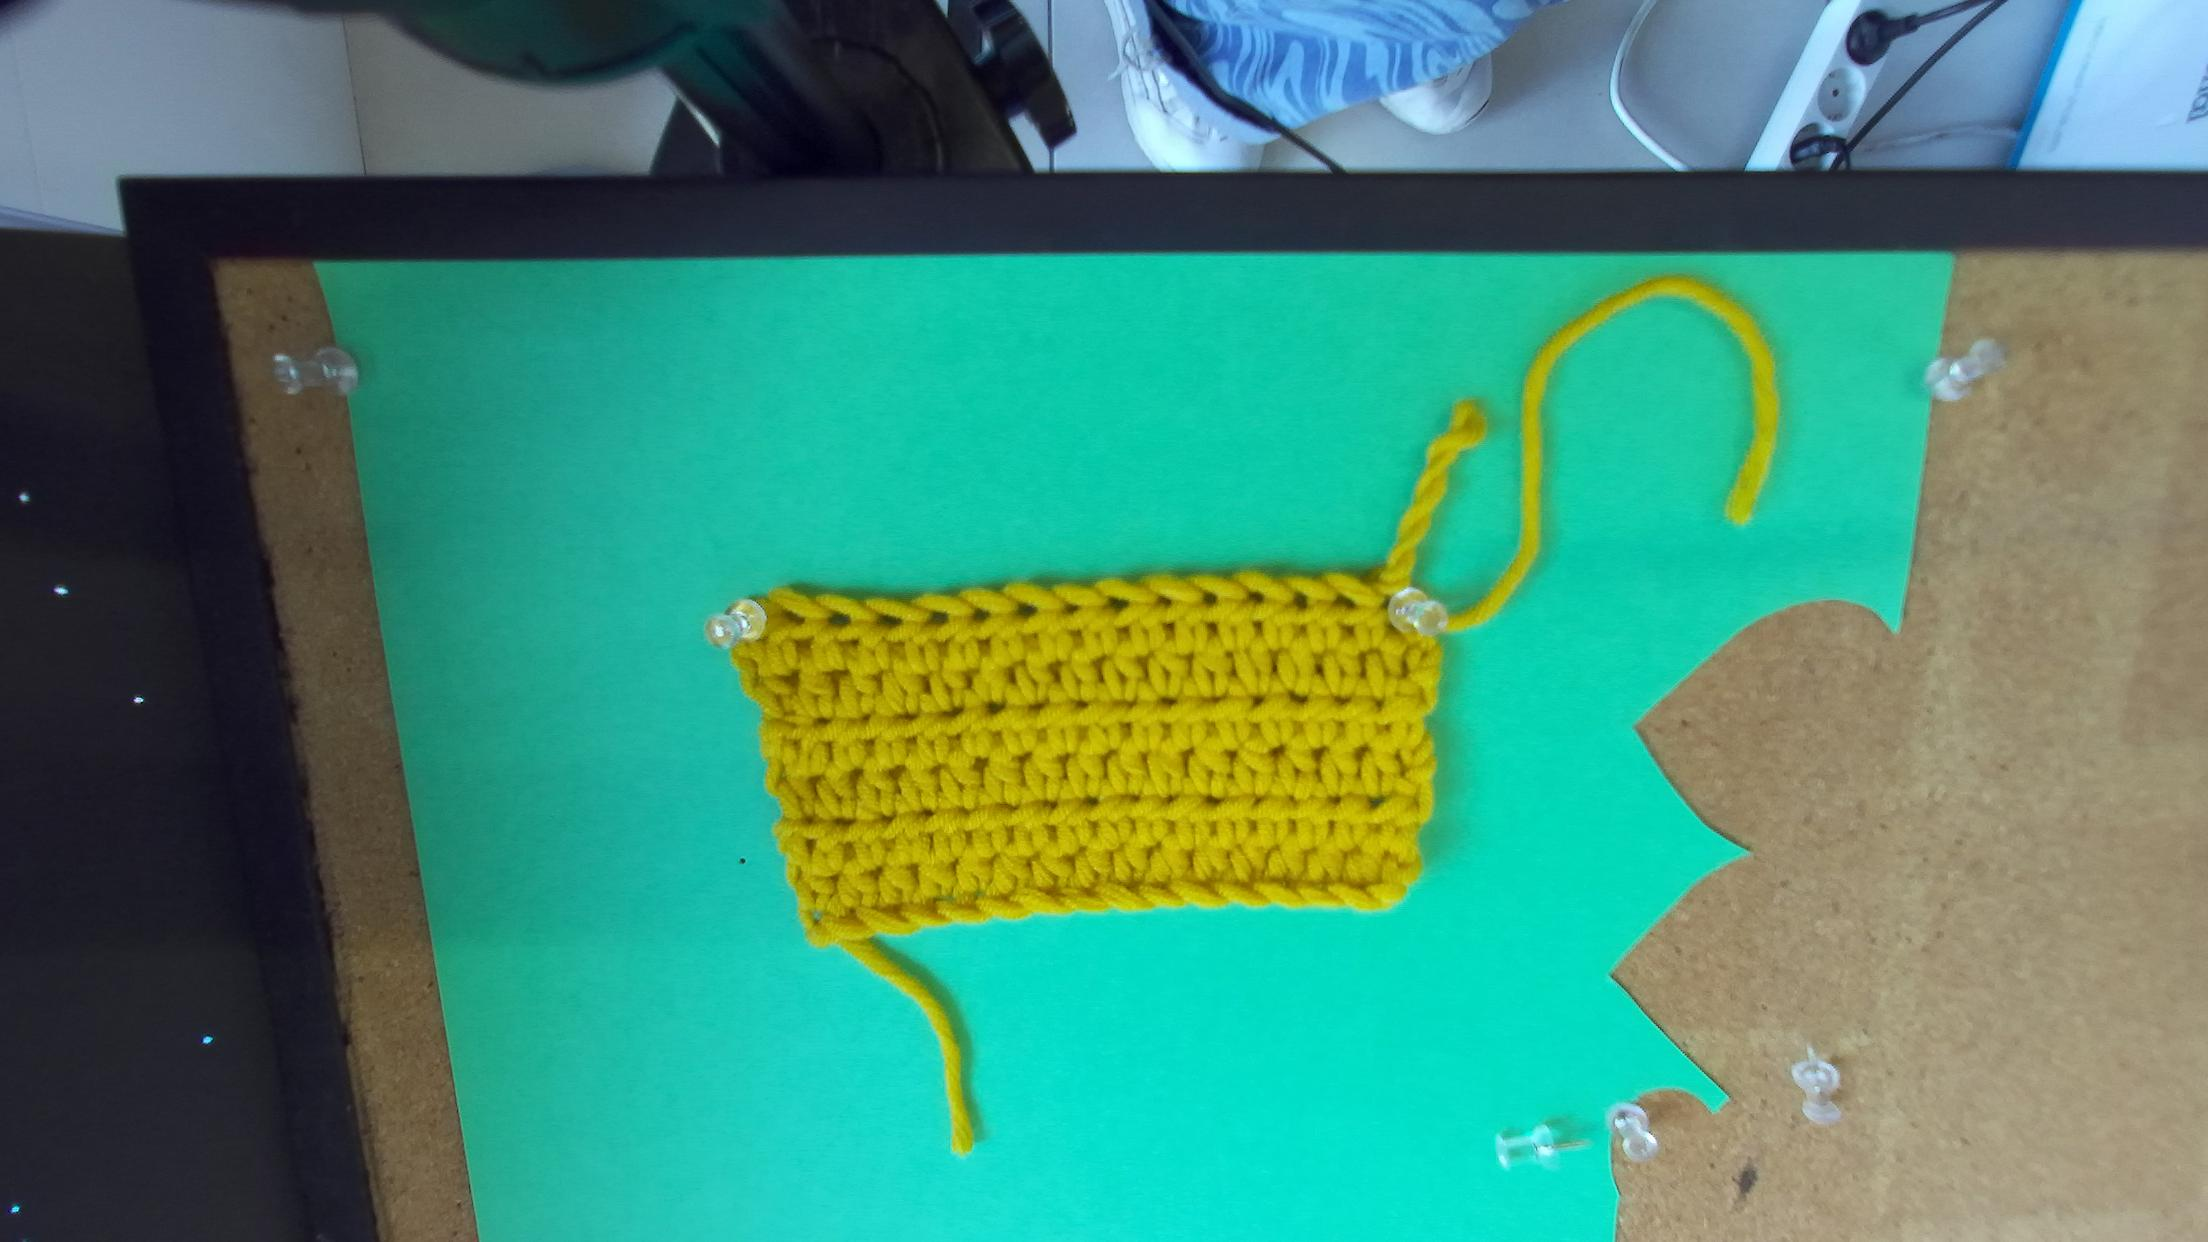hole: (778, 605, 808, 626), (872, 613, 902, 631), (826, 608, 852, 629), (1013, 601, 1039, 620), (925, 608, 949, 628), (1104, 594, 1130, 613), (1330, 593, 1356, 611), (1289, 591, 1309, 611), (1200, 590, 1219, 608), (972, 607, 992, 623), (1244, 590, 1263, 605), (1154, 593, 1172, 608), (1062, 604, 1080, 614)
swatch: (707, 572, 1448, 952)
